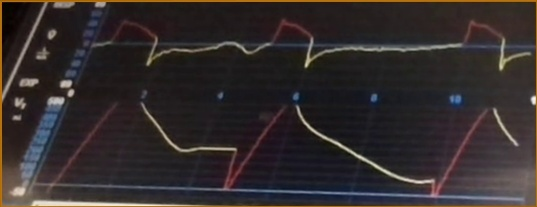Ineffective_effort Flow: (94, 11, 532, 80)
Ineffective_effort Volume: (50, 102, 519, 199)
